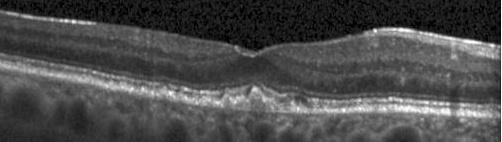retinal_drusen: (249, 88, 269, 113), (234, 98, 249, 111), (265, 100, 278, 112), (156, 94, 173, 103), (223, 95, 232, 109), (176, 91, 186, 102)
